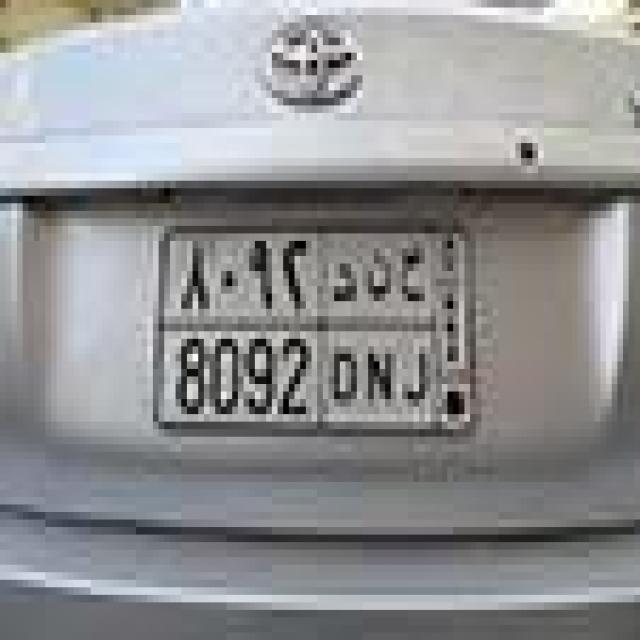license_plate: (102, 173, 504, 482)
